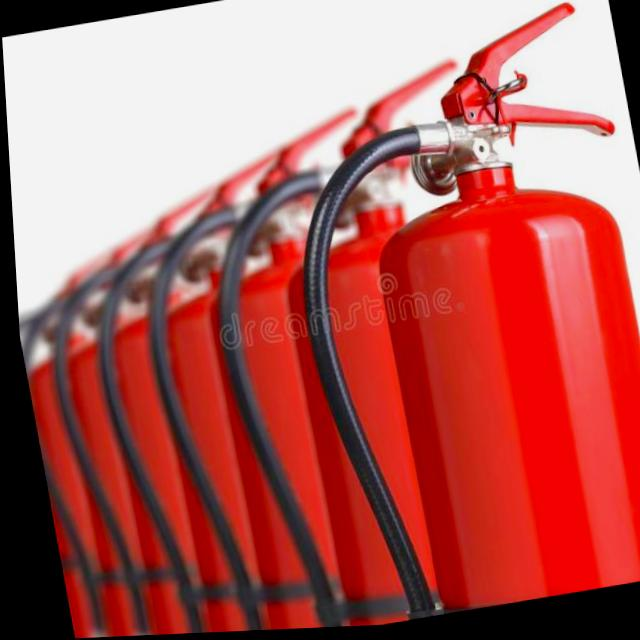FireExtinguisher: (252, 0, 640, 631), (170, 50, 557, 634)
